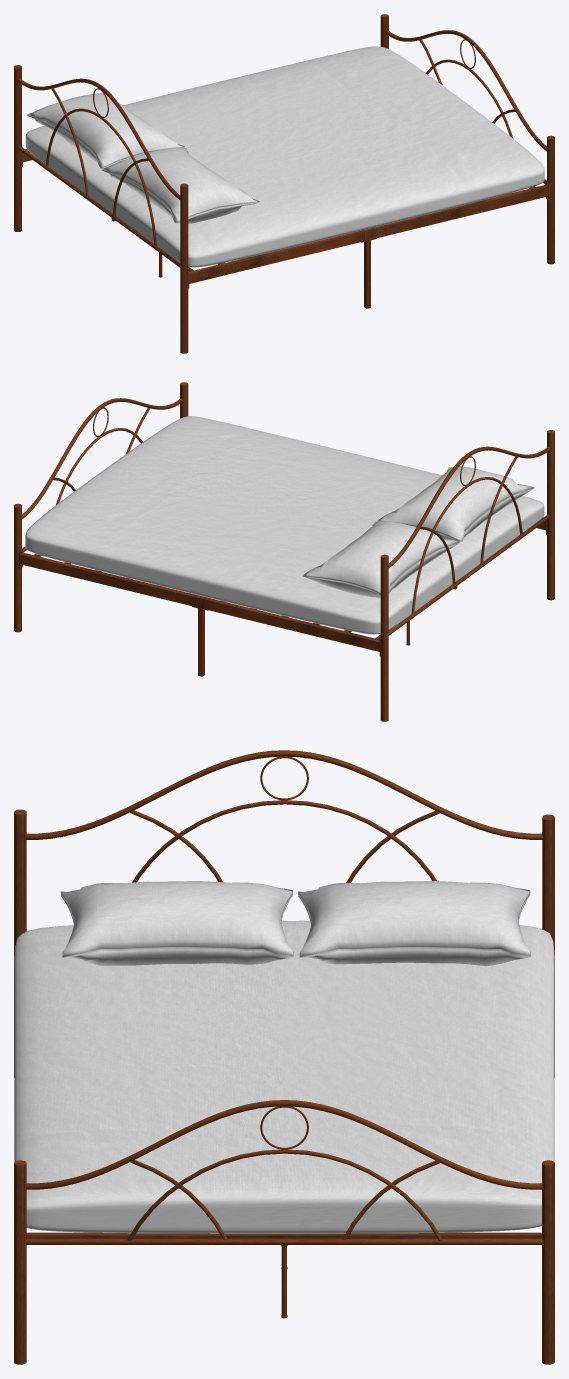
Rendered from Bed_origin.glb.
3 views of the same model, one above another, from view 1: azimuth 30°, elevation 25°; view 2: azimuth 150°, elevation 25°; view 3: azimuth 270°, elevation 25° (orthographic). The views are drawn at different scales.
Visible parts, largest first — view 1: pCube22.001, pCube11; view 2: pCube22.001, pCube11; view 3: pCube22.001, pCube11.
Boxes of the visible parts, left/top/right/bottom form: pCube22.001: left=25, top=46, right=544, bottom=267; pCube11: left=14, top=14, right=554, bottom=353; pCube22.001: left=25, top=416, right=544, bottom=634; pCube11: left=14, top=382, right=554, bottom=721; pCube22.001: left=14, top=881, right=554, bottom=1233; pCube11: left=14, top=750, right=554, bottom=1364.
Size of the model in its own units: 2.04 by 1.07 by 1.61.
2 materials, 2 textured.
